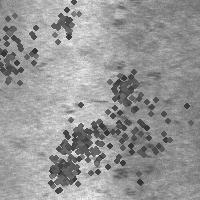rolled-in_scale: (67, 70, 185, 188), (57, 54, 178, 149), (84, 100, 163, 200), (40, 103, 116, 179), (0, 9, 52, 99), (37, 145, 85, 193), (98, 64, 144, 110), (38, 0, 86, 43)
